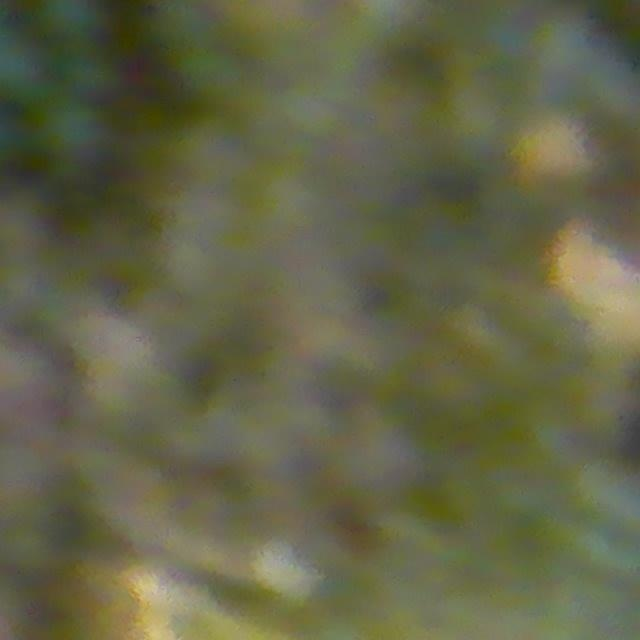SeaGrape: (36, 95, 115, 176), (33, 0, 109, 46)
